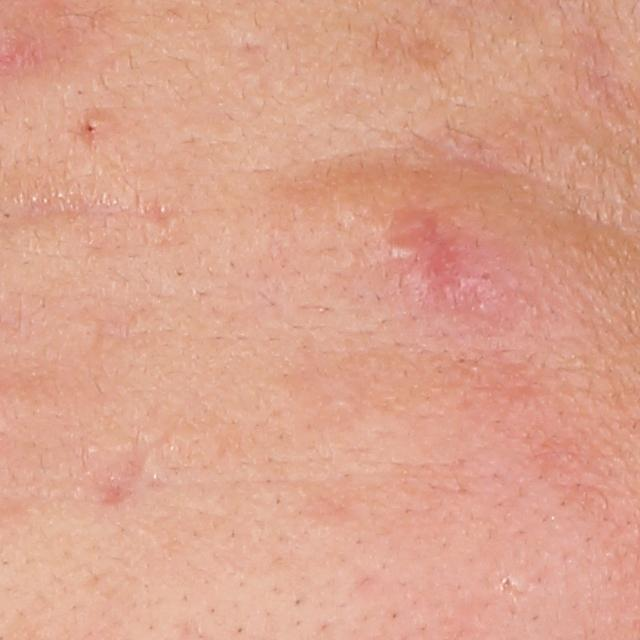atrophic_scar: (80, 427, 157, 512)
comedo: (76, 113, 103, 141)
